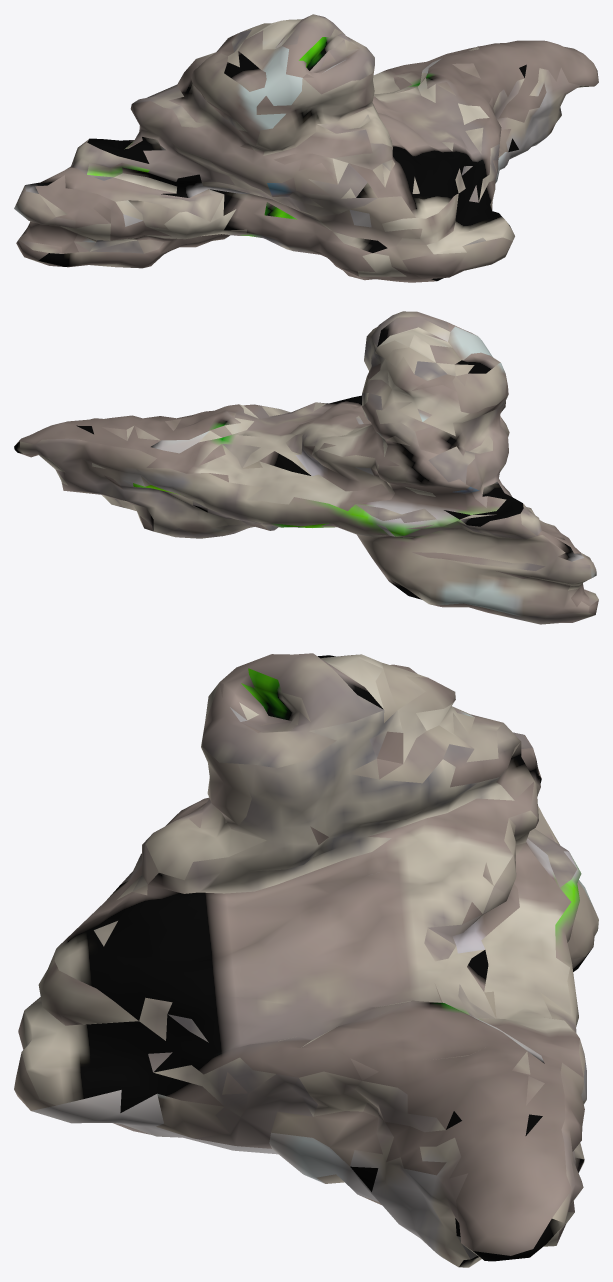
Rendered from Structure-6.fbx.
The picture shows the model from 3 angles, top to bottom: view 1: azimuth 30°, elevation 25°; view 2: azimuth 150°, elevation 25°; view 3: azimuth 270°, elevation 25°; orthographic projection. The views are drawn at different scales.
Parts seen in each view (by area): view 1: Structure-6; view 2: Structure-6; view 3: Structure-6.
Part boxes in pixels (x1,y1,x2,y2): Structure-6: (14,14,598,282); Structure-6: (14,311,598,624); Structure-6: (14,653,598,1267).
Bounding box in the file's own units: 7.81 × 2.95 × 3.91.
